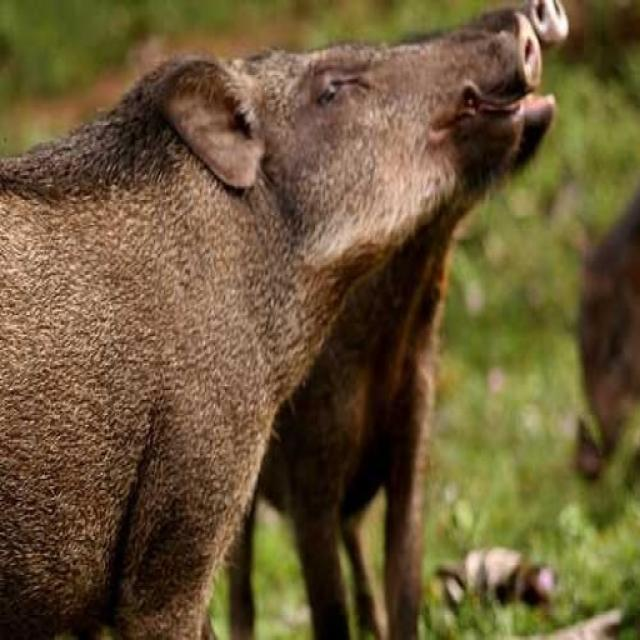pig: (7, 28, 567, 640)
